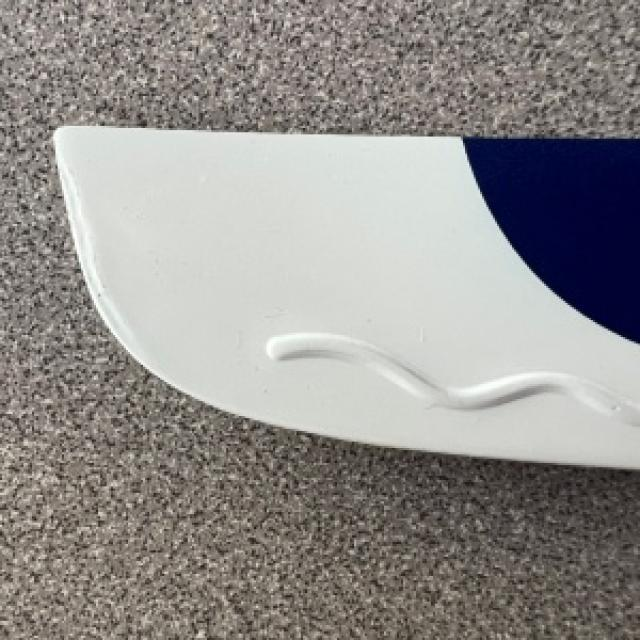healthy: (51, 128, 638, 467)
